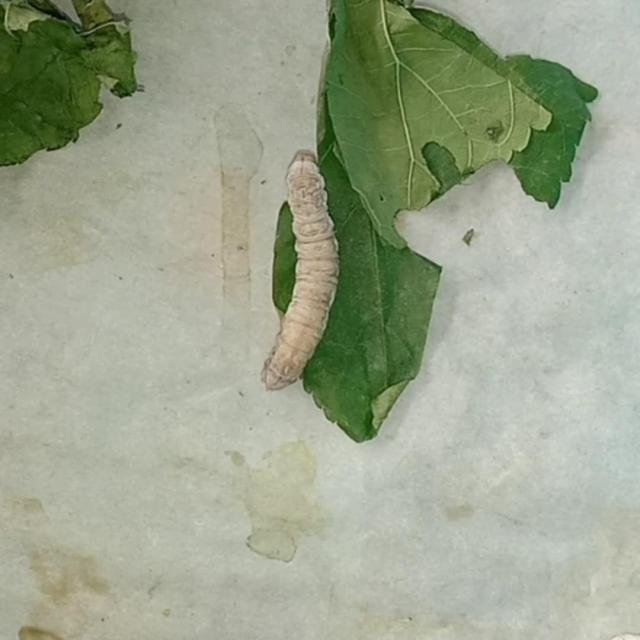Grasserie: (252, 147, 348, 402)
